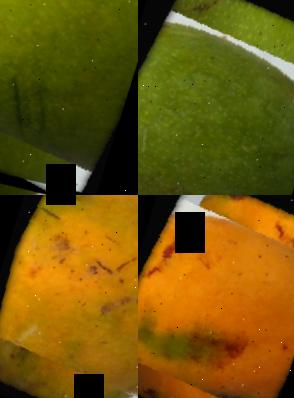PartiallyRipe: (0, 195, 138, 398)
Ripe: (138, 195, 294, 398)
Unripe: (138, 0, 294, 195), (0, 0, 138, 195)
